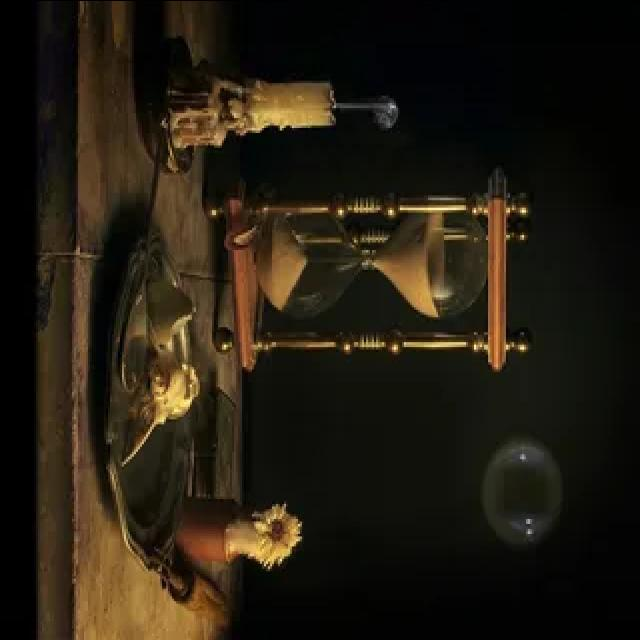clock: (212, 150, 526, 370)
